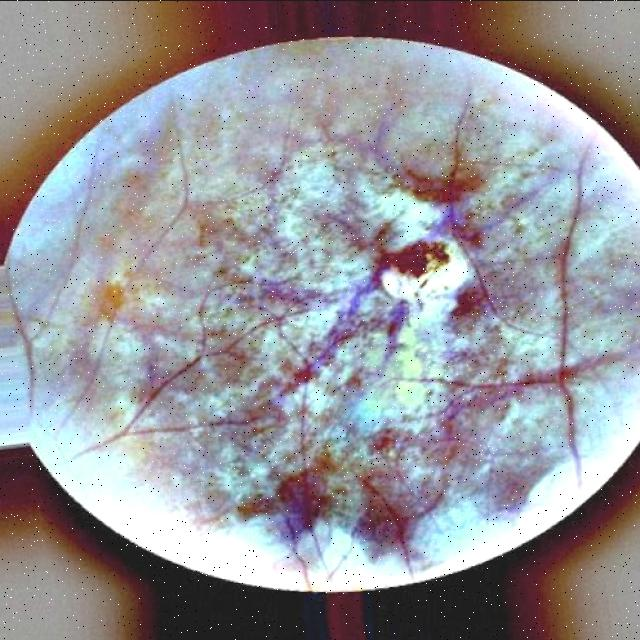Nerves: (77, 148, 586, 586), (348, 472, 444, 575), (439, 98, 468, 203)
